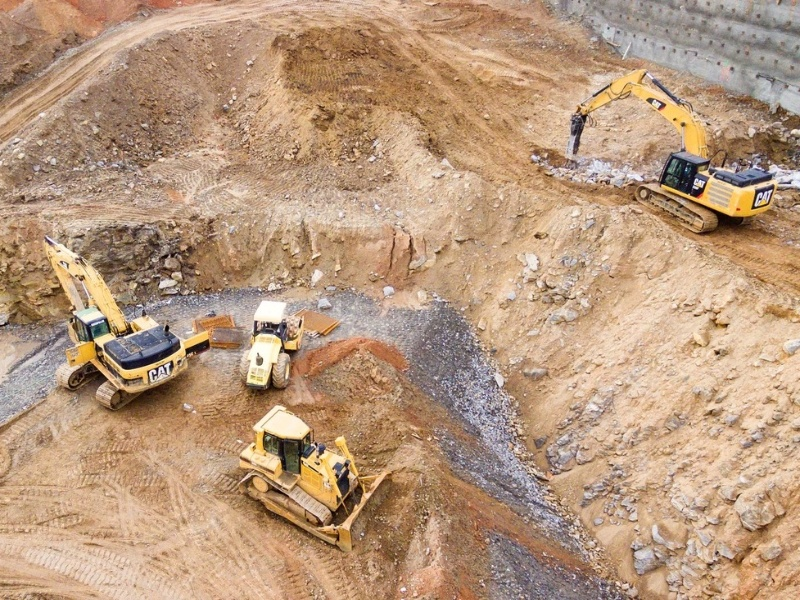excavator: (561, 64, 783, 239), (39, 231, 189, 412)
vehicle: (235, 403, 399, 558), (234, 298, 304, 393)
